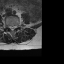CCS_normal: (11, 24, 13, 32)
LFS_normal: (15, 24, 17, 29)
LLS_normal: (13, 24, 15, 31)
RFS_normal: (7, 23, 9, 29)
RLS_normal: (9, 24, 11, 31)
